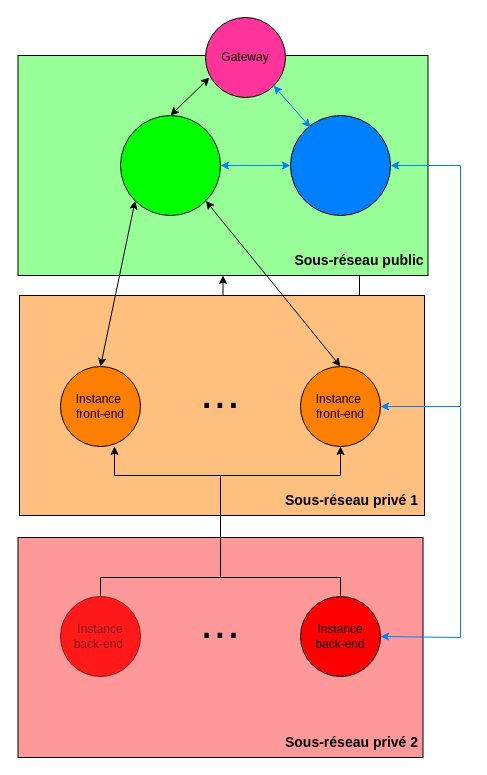
Some shapes in this 487 by 775 pixel diagram are drawn without their labels. Each missing label, with the centre of its shape:
Instance bastion: the point at 340,165
Instance load-balancer: the point at 170,165
